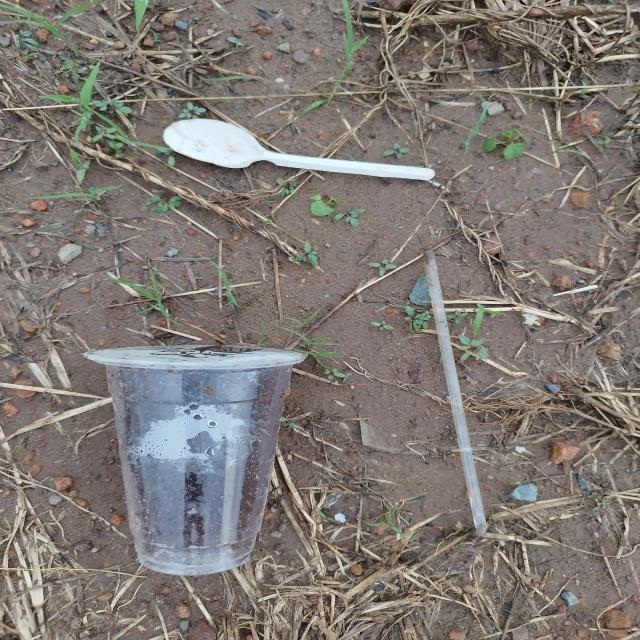drinking straw: (422, 250, 488, 536)
plastic glass: (82, 344, 307, 575)
plastic utensil: (162, 119, 435, 182)
